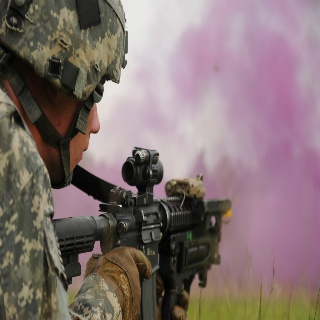rifle: (48, 146, 233, 320)
